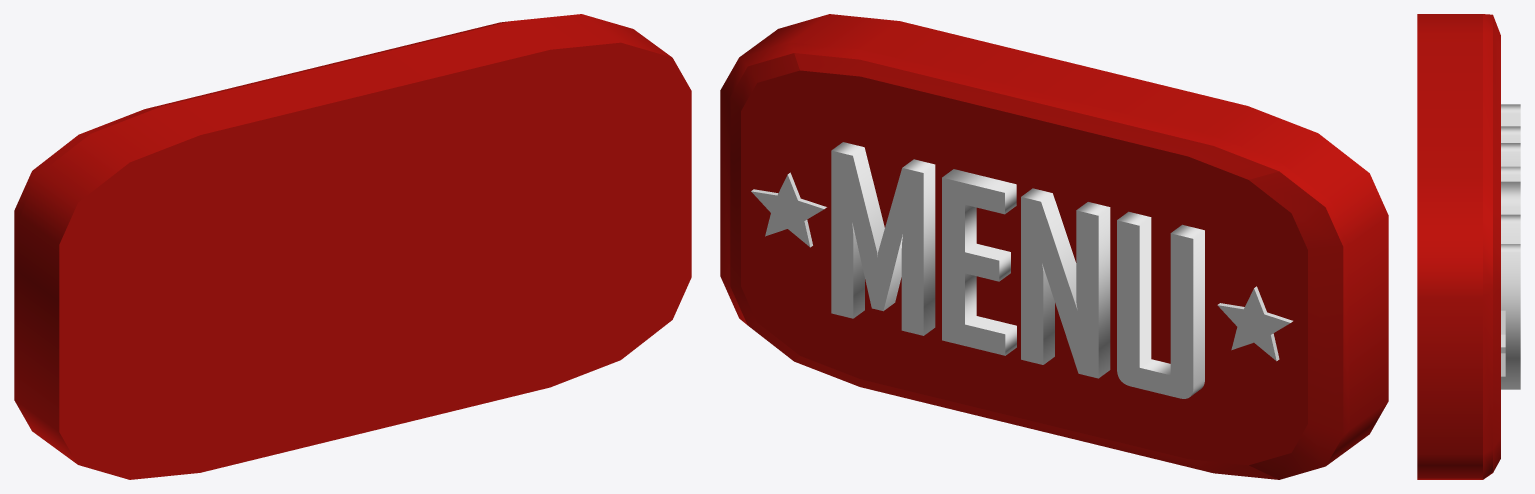
The model's file is menuboton.fbx.
3 renders of one model, left to right at view 1: azimuth 30°, elevation 25°; view 2: azimuth 150°, elevation 25°; view 3: azimuth 270°, elevation 25°, orthographic. The views are drawn at different scales.
Parts seen in each view (by area): view 1: Text.009; view 2: Text.009; view 3: Text.009.
Boxes of the visible parts, left/top/right/bottom form: Text.009: left=14, top=14, right=691, bottom=479; Text.009: left=720, top=14, right=1388, bottom=479; Text.009: left=1417, top=14, right=1520, bottom=479.
Bounding box in the file's own units: 60.07 × 30.65 × 10.14.
